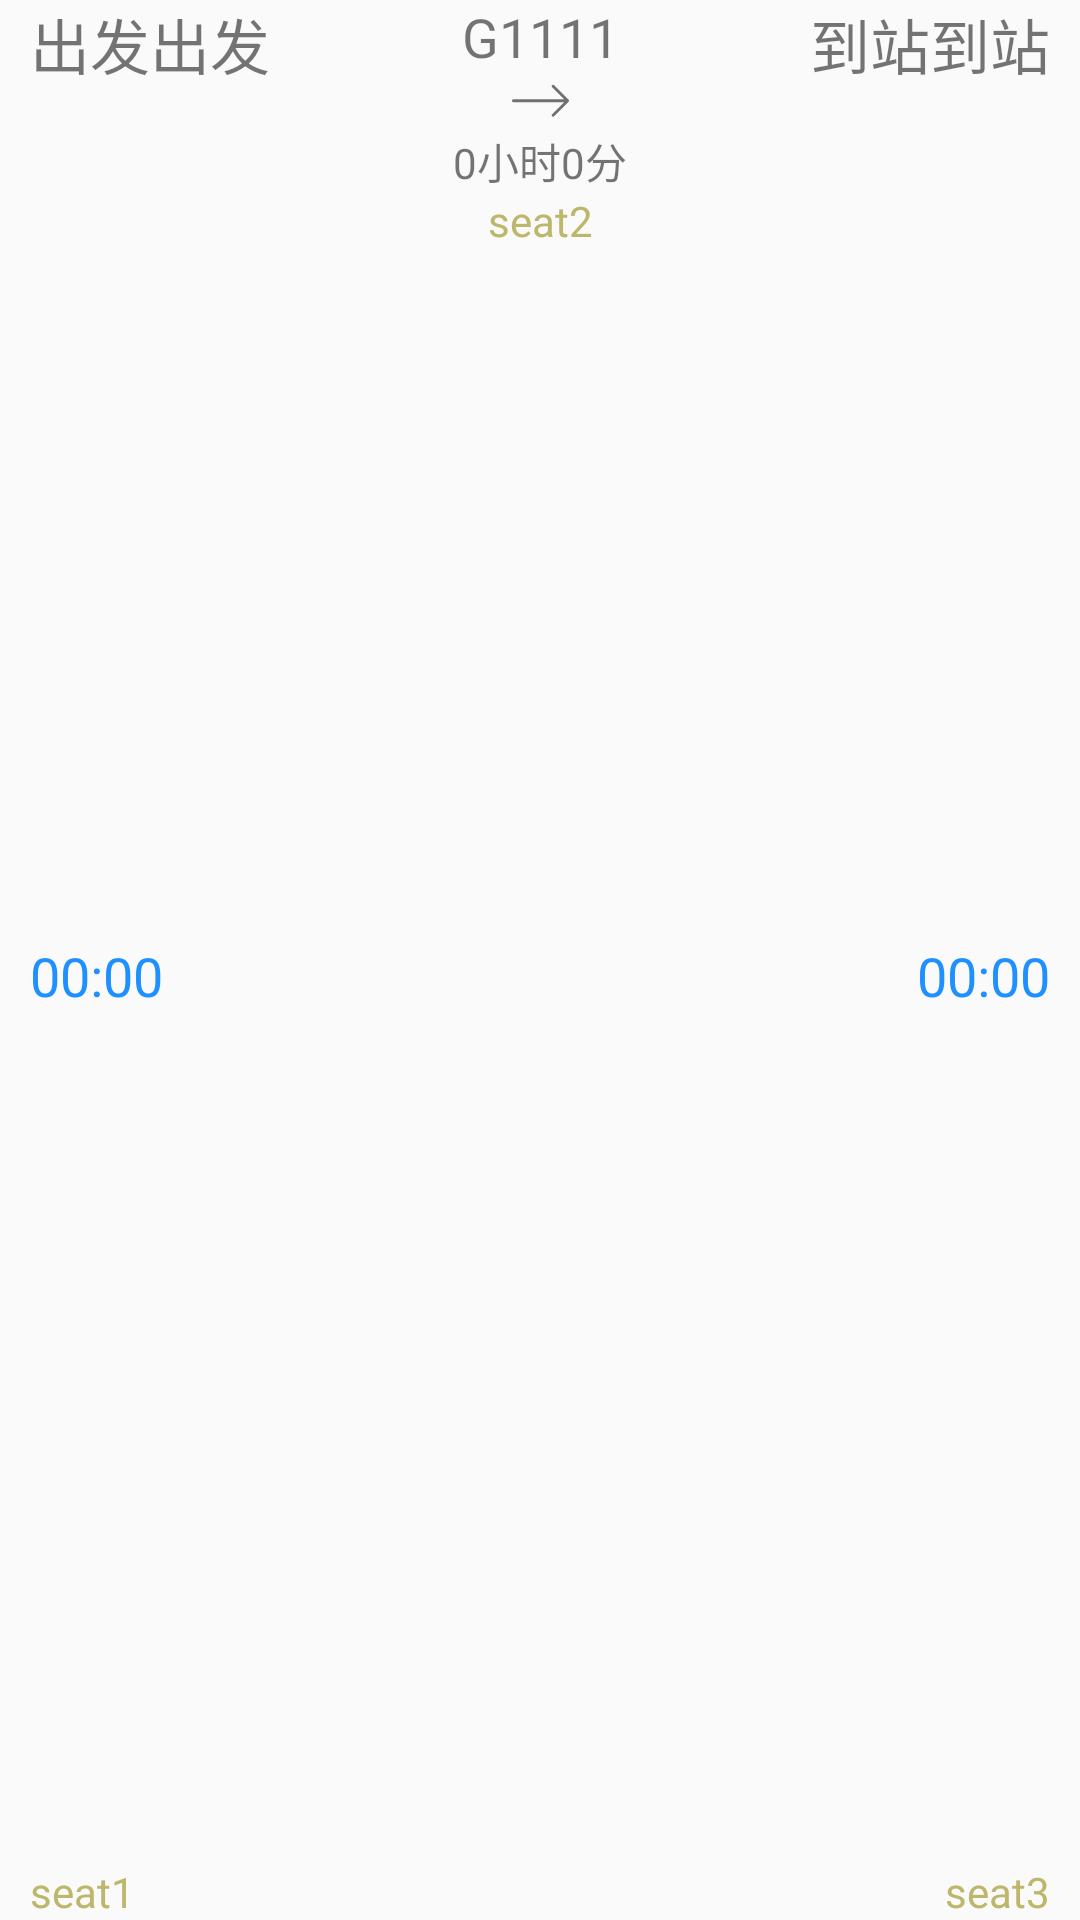

Icons on this 1080*1920 Android screen, each with its box as box(x1, y1, x2, y2):
arrow right: box(512, 85, 569, 117)
